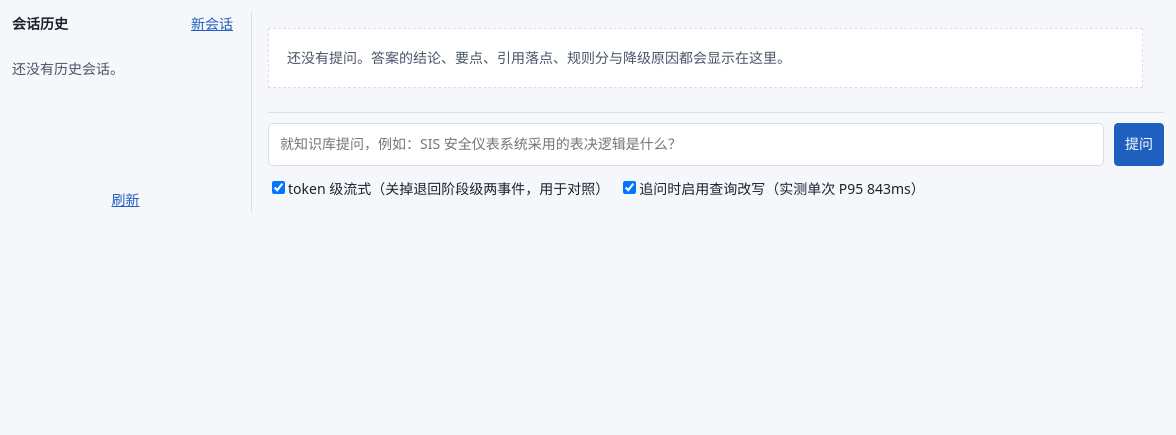
Test: 问答页的三态渲染 › 真降级时要把**原因**显示出来，只写「检索降级」等于把可行动的信息压成一个灯
The image size is (1176, 435).
Type "表决逻辑是什么？" into the search field named "问题" at (686, 145), box [268,123,1104,166]
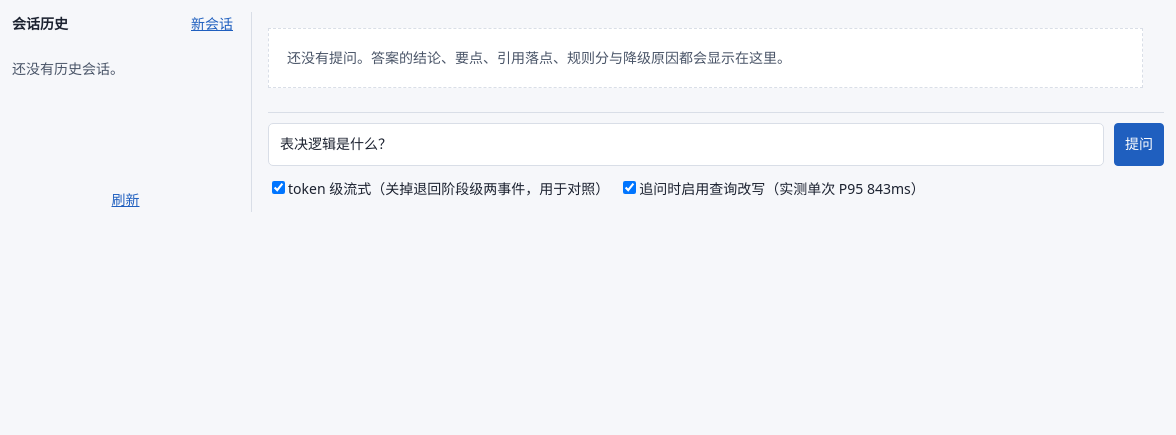
Click the button "提问" at (1139, 145), box [1114,123,1164,166]
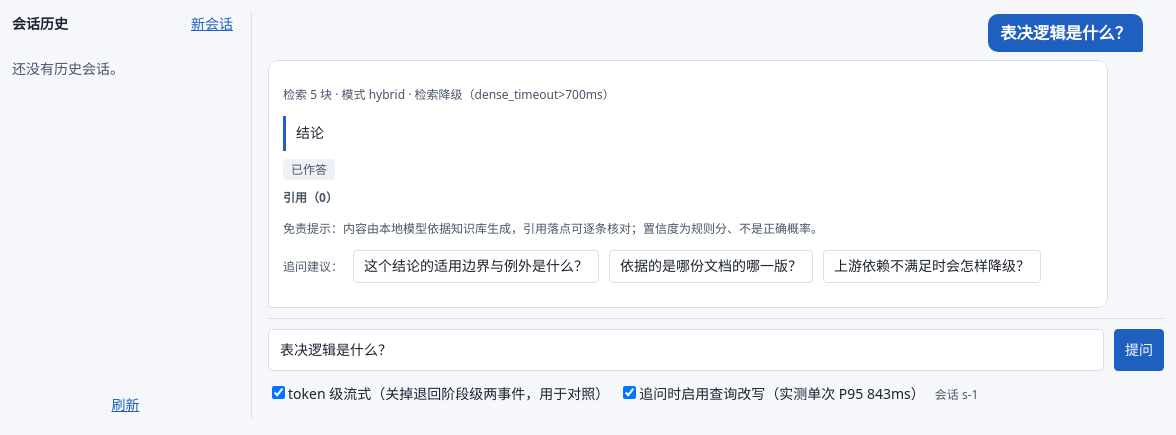
Check: the text with test id "retrieval-skeleton" shows "检索降级", box [405,86,615,103]
Check: the text with test id "retrieval-skeleton" shows "dense_timeout", box [405,86,615,103]
